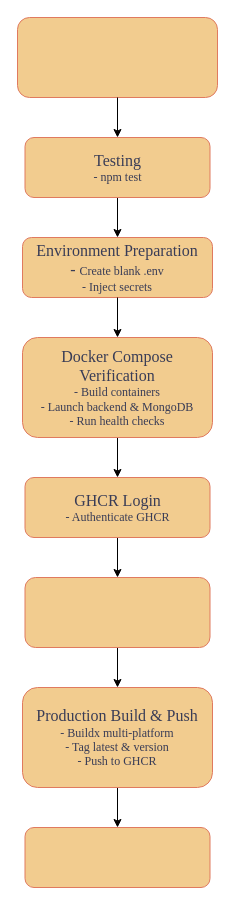
The diagram is 235 pixels wide and 905 high, and some of its shapes have lost their labels. Each missing label, with the centre of its shape:
Git & Node Setup - Checkout repo - Setup Node.js 24 - npm ci: the point at 117,57
GitHub Release - Create release - Changelog: the point at 117,857
Version Tagging - Semantic versioning - travelApp-vX.X.X: the point at 117,612
